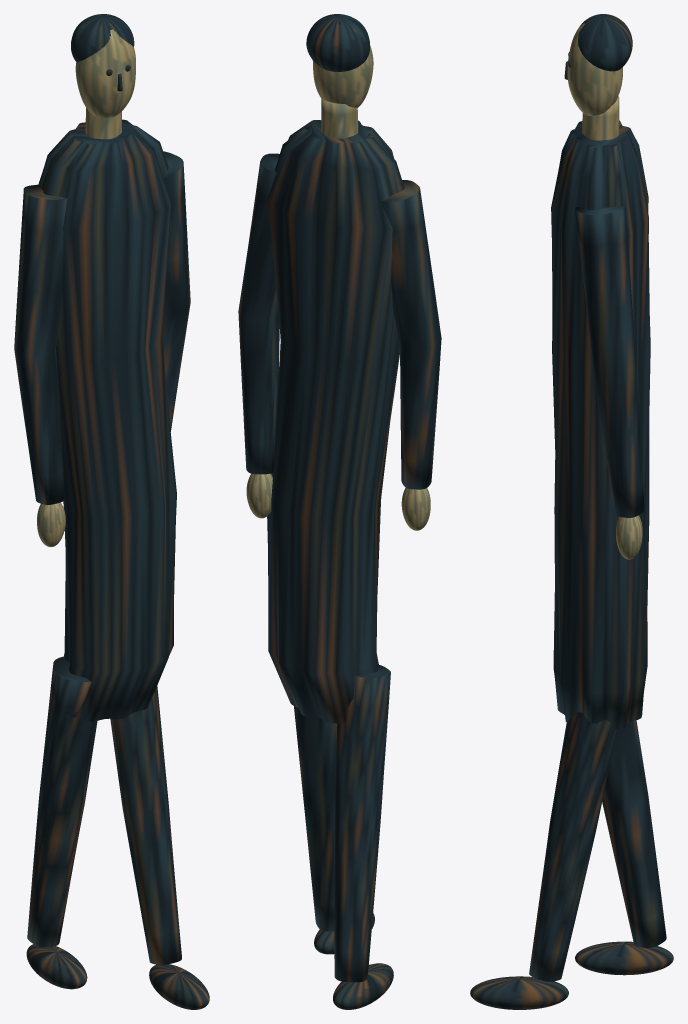
The model's file is distant-walker-2.glb.
The picture shows the model from 3 angles, left to right: view 1: azimuth 30°, elevation 25°; view 2: azimuth 150°, elevation 25°; view 3: azimuth 270°, elevation 25°; orthographic projection.
Visible parts, largest first — view 1: Distant walker 2 painted mesh; view 2: Distant walker 2 painted mesh; view 3: Distant walker 2 painted mesh.
Boxes of the visible parts, x1,y1,x2,y2 form: Distant walker 2 painted mesh: (14,14,209,1009); Distant walker 2 painted mesh: (238,14,441,1009); Distant walker 2 painted mesh: (470,14,673,1009).
Size of the model in its own units: 0.2861 by 1.43 by 0.272.
